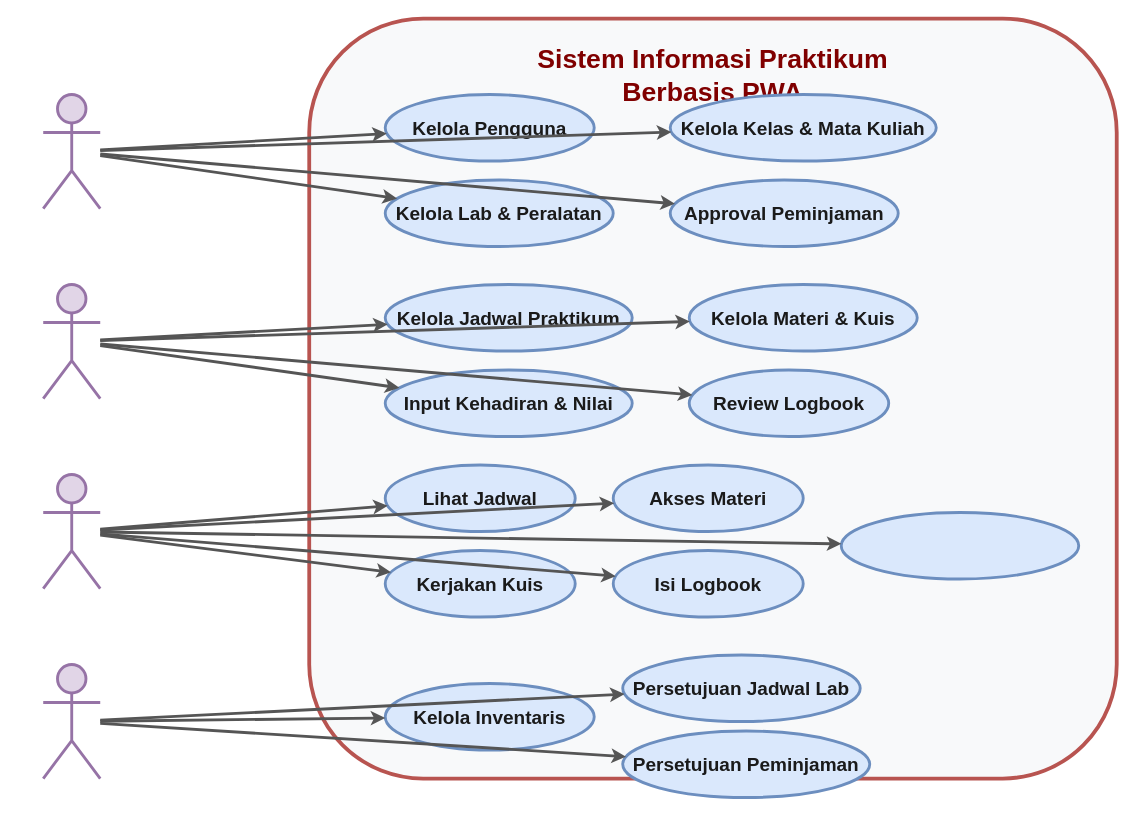
The diagram is 1135 pixels wide and 826 high, and some of its shapes have lost their labels. Here are the shapes that lost their labels. From the top down, the centre of each, then its label:
the point at 71,151: Admin
the point at 71,341: Dosen
the point at 71,531: Mahasiswa
the point at 959,545: Lihat Nilai & Presensi
the point at 71,721: Laboran
